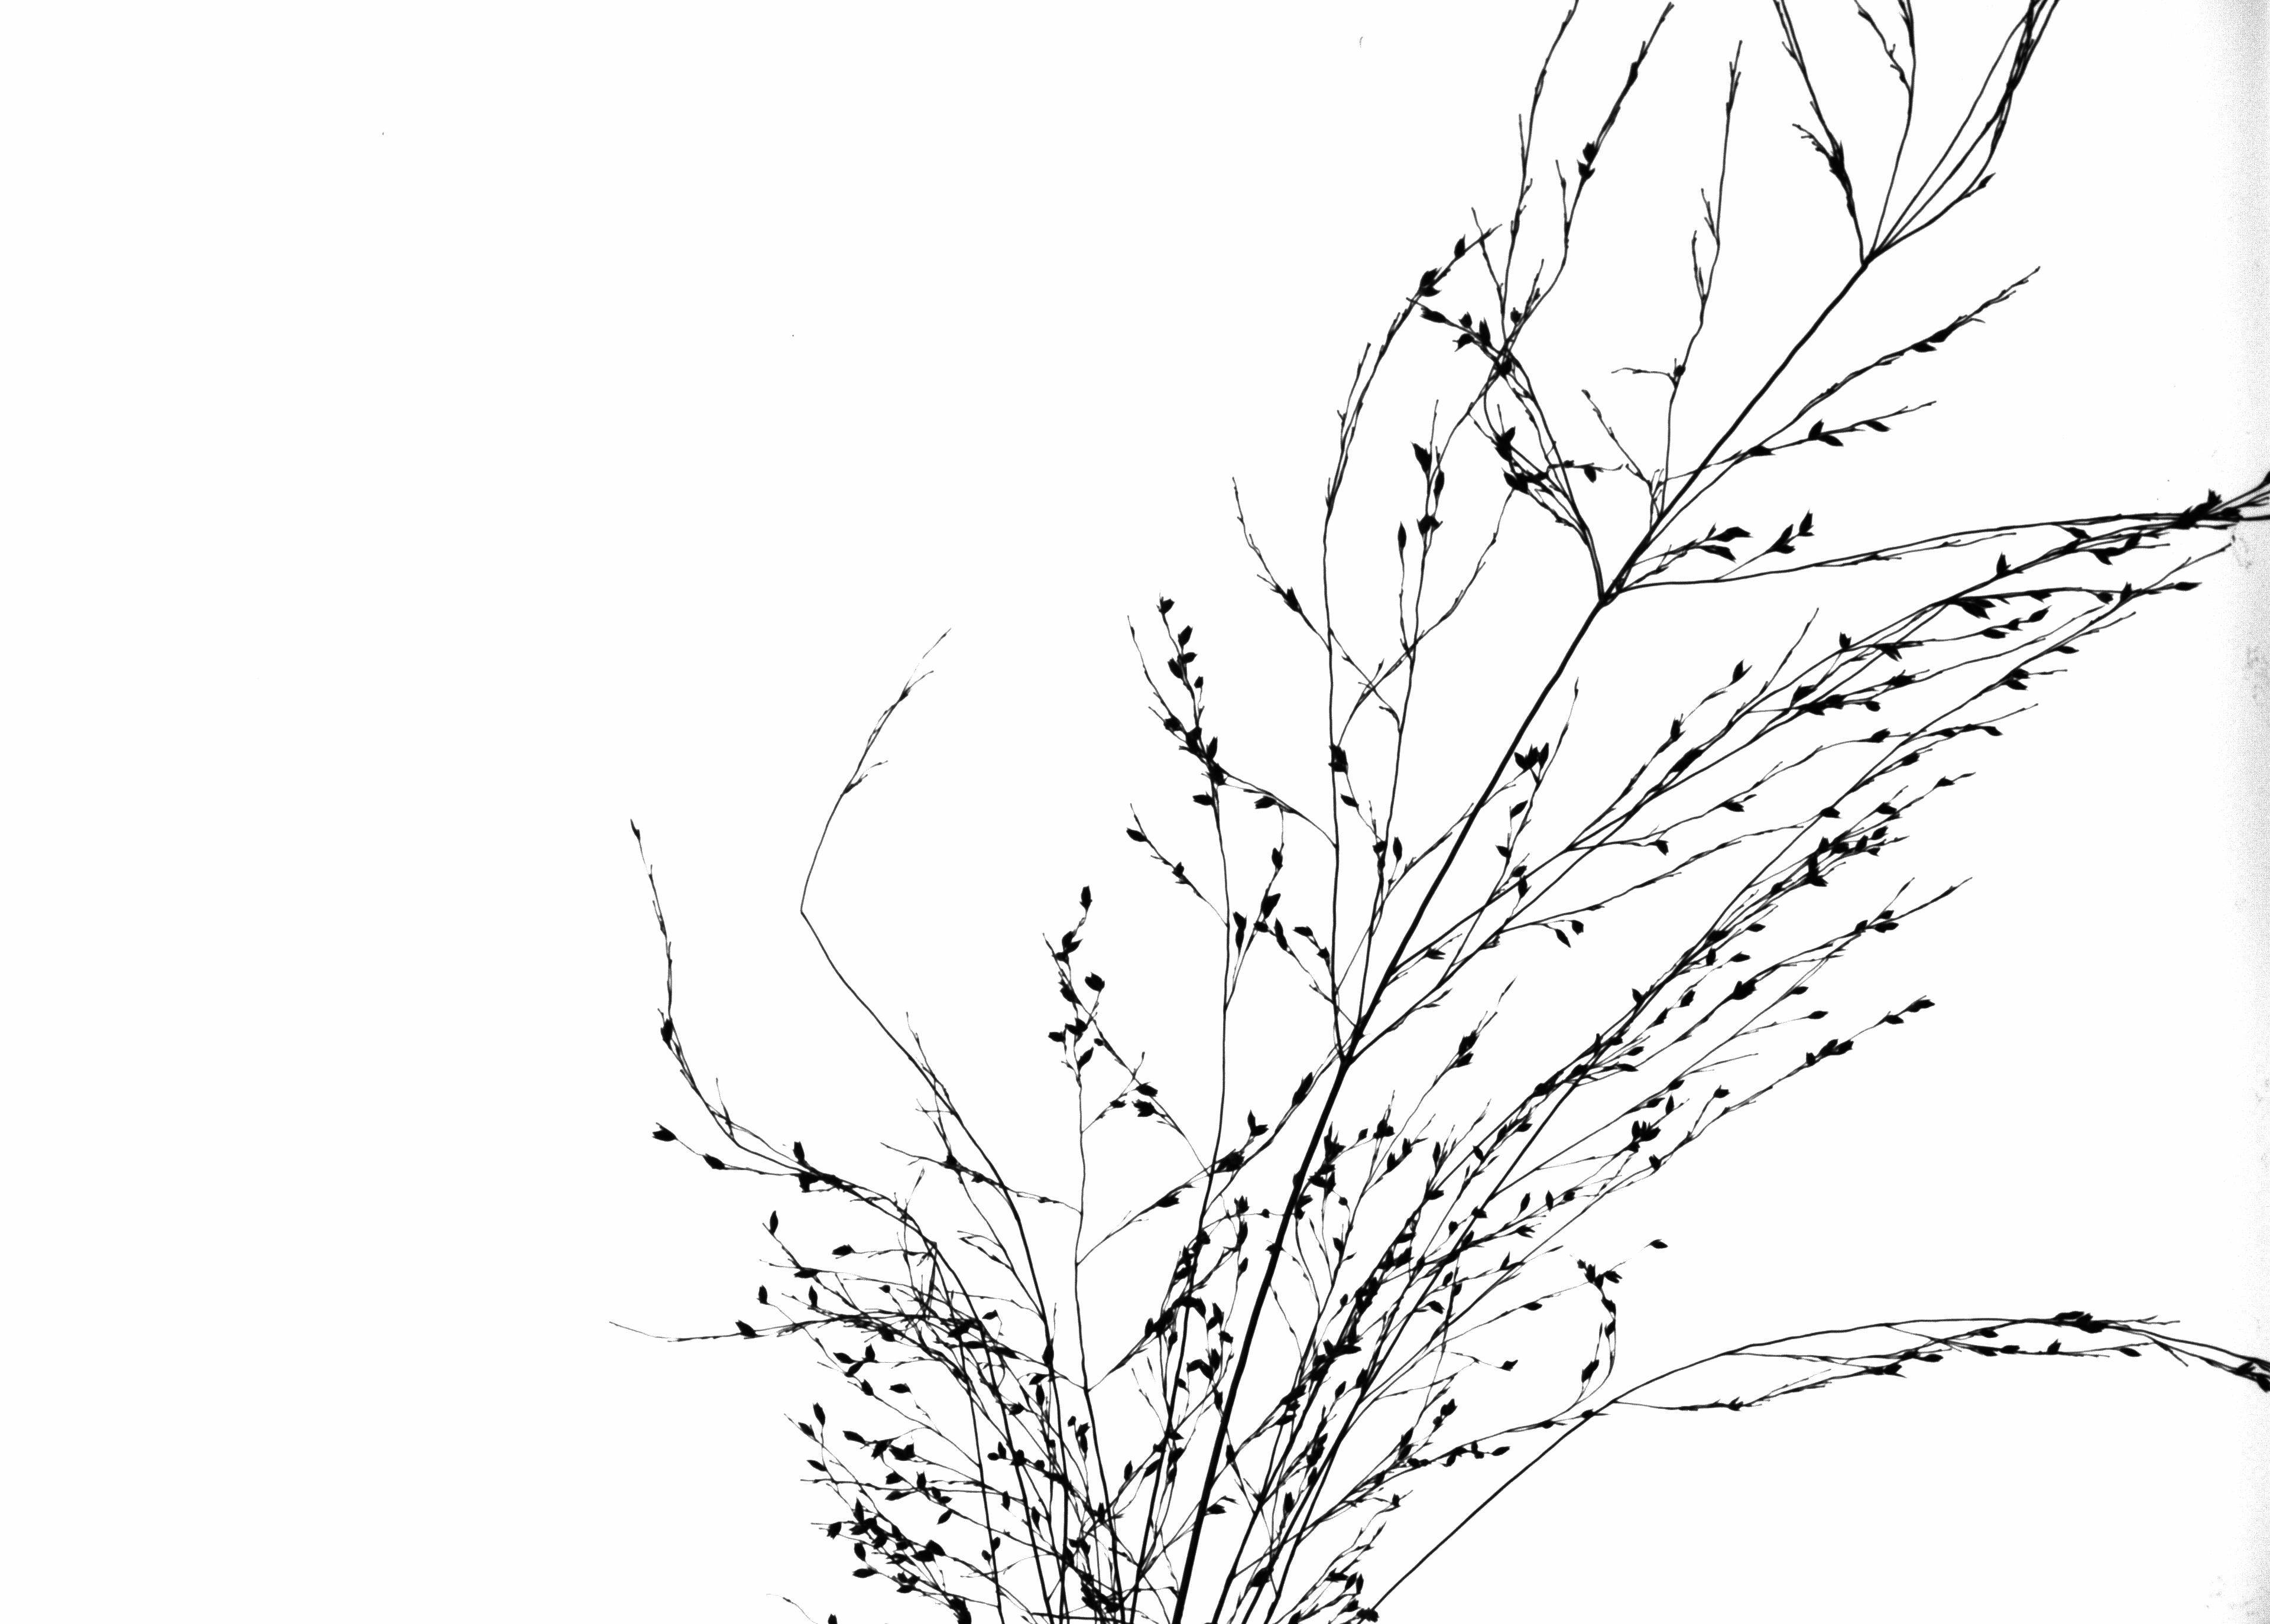seed: (1486, 418, 1519, 462), (1721, 977, 1762, 1007), (1498, 468, 1532, 499), (1407, 436, 1433, 475), (1282, 580, 1306, 619), (1322, 736, 1354, 766), (1456, 1019, 1481, 1056), (1152, 591, 1182, 619), (1700, 541, 1739, 562), (2108, 1341, 2143, 1364), (1895, 745, 1925, 772), (2026, 603, 2057, 627), (1261, 888, 1285, 919), (1713, 524, 1757, 541), (1862, 413, 1895, 436), (1579, 135, 1605, 163), (700, 1149, 730, 1174), (1080, 968, 1110, 993), (2226, 1355, 2258, 1378), (1908, 993, 1939, 1016), (2047, 1306, 2087, 1323), (1964, 1322, 2004, 1339), (1575, 1359, 1602, 1385), (1706, 923, 1734, 947), (1414, 264, 1442, 288), (1795, 504, 1818, 534), (1175, 620, 1197, 650), (2020, 587, 2059, 605), (1815, 801, 1846, 823), (2217, 501, 2244, 526), (1547, 926, 1574, 951), (1646, 835, 1672, 859), (1904, 339, 1941, 357), (1477, 311, 1495, 348), (1391, 517, 1408, 554), (1968, 1343, 2001, 1362), (1999, 678, 2033, 698), (1414, 506, 1433, 540), (1252, 1561, 1275, 1589), (1677, 986, 1700, 1014), (828, 1239, 858, 1260), (1786, 680, 1816, 701), (2122, 527, 2143, 557), (1864, 726, 1894, 747), (1992, 548, 2013, 578), (1808, 413, 1829, 443), (1999, 663, 2034, 680), (1431, 466, 1449, 501), (990, 1343, 1022, 1362), (828, 1348, 860, 1367), (1917, 1348, 1948, 1367), (1802, 847, 1822, 879), (870, 1436, 895, 1461), (1203, 1311, 1229, 1334), (1451, 1049, 1477, 1072), (1720, 793, 1746, 816), (1980, 721, 2006, 743), (840, 1425, 869, 1446), (1804, 1004, 1832, 1025), (1252, 791, 1280, 812), (2172, 578, 2205, 596), (1744, 443, 1778, 460), (1881, 673, 1918, 689), (1727, 654, 1746, 684), (1204, 733, 1224, 763), (1507, 796, 1530, 821), (733, 1318, 760, 1339), (1398, 1422, 1419, 1448), (1832, 627, 1853, 654), (1820, 432, 1846, 453), (1449, 232, 1470, 258), (1336, 789, 1363, 810), (1324, 758, 1350, 779), (1080, 879, 1095, 914), (1189, 789, 1215, 810), (1124, 824, 1150, 845), (849, 1517, 877, 1536), (811, 1399, 830, 1427), (1421, 944, 1449, 963), (1932, 724, 1961, 743), (1582, 459, 1602, 487), (1417, 306, 1445, 325), (1539, 738, 1554, 772), (1962, 594, 1996, 610), (2119, 573, 2135, 606), (649, 1127, 679, 1144), (1962, 605, 1992, 622), (1667, 714, 1684, 743), (1575, 162, 1598, 185), (1648, 1232, 1672, 1253), (2066, 522, 2091, 543), (1626, 979, 1648, 1004), (1669, 355, 1690, 380), (1266, 845, 1287, 870), (789, 1135, 809, 1162), (1291, 921, 1317, 940), (1727, 947, 1753, 967), (1834, 1040, 1860, 1060), (1449, 334, 1475, 353), (2052, 642, 2084, 657), (1132, 1081, 1160, 1098), (925, 1536, 948, 1557), (1507, 861, 1530, 882), (1772, 520, 1793, 543), (1162, 657, 1183, 680), (2043, 1334, 2063, 1359), (1934, 773, 1959, 793), (1801, 874, 1830, 889), (1391, 831, 1405, 865), (1516, 1299, 1549, 1313), (849, 1496, 867, 1522), (1078, 1046, 1095, 1072), (1173, 1264, 1199, 1281), (1880, 1011, 1906, 1028), (1532, 460, 1549, 487), (1203, 770, 1229, 787), (661, 1016, 675, 1048), (765, 1207, 781, 1236), (1211, 1297, 1226, 1329), (1871, 923, 1903, 937), (1978, 626, 2006, 642), (1493, 838, 1512, 861), (1648, 1007, 1670, 1026), (805, 1457, 830, 1475), (888, 1380, 913, 1397), (1162, 1425, 1187, 1443), (1498, 1355, 1523, 1373), (1623, 1042, 1648, 1060), (2091, 550, 2115, 568), (1565, 916, 1590, 933), (1876, 798, 1901, 816), (2091, 587, 2115, 605), (1507, 304, 1524, 329), (793, 1265, 823, 1280), (849, 1566, 879, 1580), (909, 1548, 935, 1564), (1394, 1230, 1421, 1246), (1299, 1069, 1315, 1095), (1145, 1457, 1164, 1478), (826, 1517, 844, 1540), (883, 1468, 906, 1485), (853, 1540, 870, 1562), (1328, 1232, 1345, 1255), (1333, 1378, 1350, 1401), (1867, 824, 1890, 842), (1822, 1033, 1839, 1056), (1876, 905, 1899, 923), (2006, 612, 2024, 634), (1456, 306, 1473, 329), (1159, 715, 1182, 733), (1591, 1030, 1605, 1058), (1122, 1459, 1138, 1483), (1517, 1190, 1533, 1214), (1171, 856, 1187, 881), (1187, 722, 1203, 747), (797, 1420, 816, 1439), (1057, 986, 1076, 1005), (1050, 947, 1069, 967), (1428, 1297, 1447, 1316), (1231, 907, 1250, 926), (884, 1489, 911, 1503), (1129, 1097, 1155, 1111), (1356, 1366, 1370, 1392), (1282, 1490, 1296, 1517), (1648, 1153, 1665, 1174), (1516, 877, 1530, 903), (1813, 831, 1830, 852), (1744, 921, 1771, 935), (1180, 649, 1201, 666), (1340, 1598, 1363, 1613), (877, 1329, 900, 1345), (874, 1529, 890, 1552), (860, 1376, 876, 1399), (1060, 926, 1076, 949), (1491, 1443, 1514, 1459), (1512, 749, 1528, 772), (805, 1285, 819, 1309), (999, 1487, 1013, 1512), (1386, 1148, 1400, 1172), (1236, 1218, 1248, 1246), (1104, 1097, 1129, 1111), (1159, 1197, 1183, 1211), (1275, 1413, 1299, 1427), (1224, 1441, 1238, 1466), (1345, 1568, 1359, 1592), (1786, 984, 1811, 998), (1771, 543, 1799, 555), (1417, 286, 1445, 299), (846, 1360, 865, 1378), (937, 1508, 955, 1527), (1046, 1028, 1066, 1046), (1171, 1374, 1190, 1392), (1537, 1415, 1556, 1432), (1605, 1267, 1625, 1285), (1667, 1076, 1686, 1093), (754, 1283, 770, 1304), (1064, 939, 1085, 954), (1461, 1229, 1477, 1250), (1883, 1362, 1904, 1378), (1801, 1048, 1816, 1069), (863, 1341, 877, 1364), (995, 1438, 1009, 1461), (1542, 1188, 1556, 1211), (1574, 1408, 1597, 1422), (890, 1446, 907, 1464), (1169, 1445, 1187, 1462), (1287, 1606, 1305, 1624), (1713, 1084, 1730, 1102), (1850, 919, 1867, 937), (1321, 1338, 1336, 1357), (1470, 1142, 1486, 1162), (1029, 1504, 1041, 1529), (1095, 1499, 1108, 1524), (1340, 1345, 1364, 1357), (1238, 1253, 1250, 1278), (913, 1469, 927, 1490), (1076, 1432, 1090, 1454), (1194, 1295, 1208, 1316), (1074, 1012, 1088, 1033), (1306, 1466, 1321, 1487), (1208, 1501, 1229, 1515), (1387, 1489, 1401, 1510), (1642, 1095, 1663, 1109), (1524, 742, 1535, 770), (1862, 701, 1883, 715), (1192, 671, 1206, 692), (1400, 1134, 1412, 1156), (1134, 1109, 1157, 1121), (1213, 1388, 1226, 1411), (1546, 1243, 1568, 1255), (1326, 1570, 1349, 1582), (962, 1339, 988, 1350), (1008, 1401, 1025, 1417), (1428, 1186, 1445, 1202), (1252, 1121, 1270, 1137), (1187, 1355, 1203, 1373), (895, 1538, 914, 1552), (890, 1520, 904, 1540), (1076, 1418, 1090, 1438), (1470, 1206, 1489, 1220), (1852, 835, 1866, 854), (904, 1439, 916, 1461), (1029, 1373, 1050, 1385), (893, 1582, 914, 1594), (1317, 942, 1329, 963), (1245, 1106, 1255, 1130), (1168, 1327, 1180, 1348), (1168, 1464, 1180, 1485), (1496, 1123, 1509, 1144), (1502, 1248, 1514, 1269), (1704, 947, 1716, 968), (1431, 1137, 1440, 1165), (1563, 1186, 1577, 1204), (1340, 1287, 1350, 1309), (1665, 1093, 1676, 1116), (1034, 1385, 1046, 1404), (1574, 1253, 1586, 1272), (1145, 1313, 1153, 1339), (979, 1547, 993, 1562), (1064, 1411, 1078, 1427), (1335, 1192, 1349, 1207), (1357, 1127, 1371, 1142), (1152, 1438, 1166, 1454), (1034, 1455, 1046, 1473), (1447, 1218, 1459, 1236), (1357, 1571, 1366, 1596), (1449, 1397, 1459, 1417), (895, 1570, 909, 1584), (1067, 1536, 1081, 1550), (1259, 1206, 1273, 1220), (1430, 1413, 1444, 1427), (1466, 1439, 1481, 1454), (930, 1485, 942, 1501), (877, 1281, 893, 1294), (825, 1612, 840, 1624), (1442, 1271, 1454, 1287), (1319, 1431, 1331, 1446), (1444, 1454, 1456, 1469), (992, 1534, 1002, 1552), (1516, 1230, 1533, 1241), (985, 1308, 999, 1320), (986, 1450, 1000, 1462), (888, 1557, 906, 1566), (939, 1494, 953, 1504), (1094, 1037, 1106, 1048), (884, 1554, 907, 1559)
